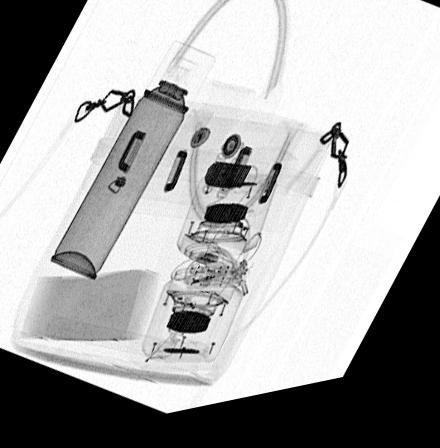Sprayer: (46, 45, 214, 287)
